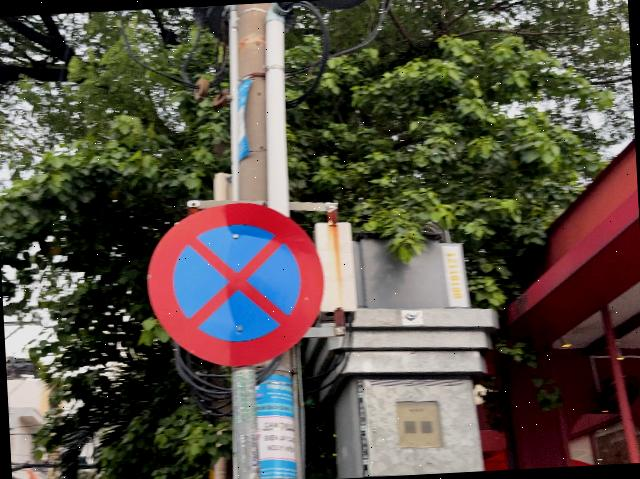cam-dung-va-do-xe: (142, 197, 329, 371)
